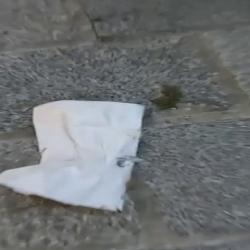Papir: (0, 100, 145, 211)
